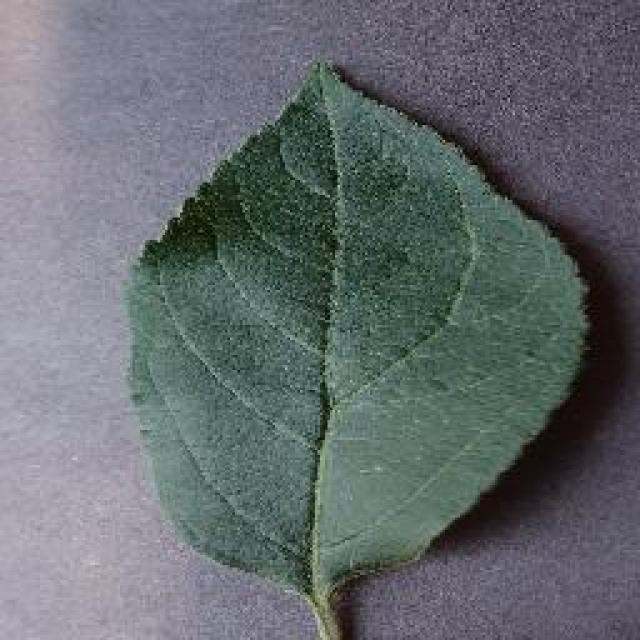apple healthy: (120, 55, 592, 637)
